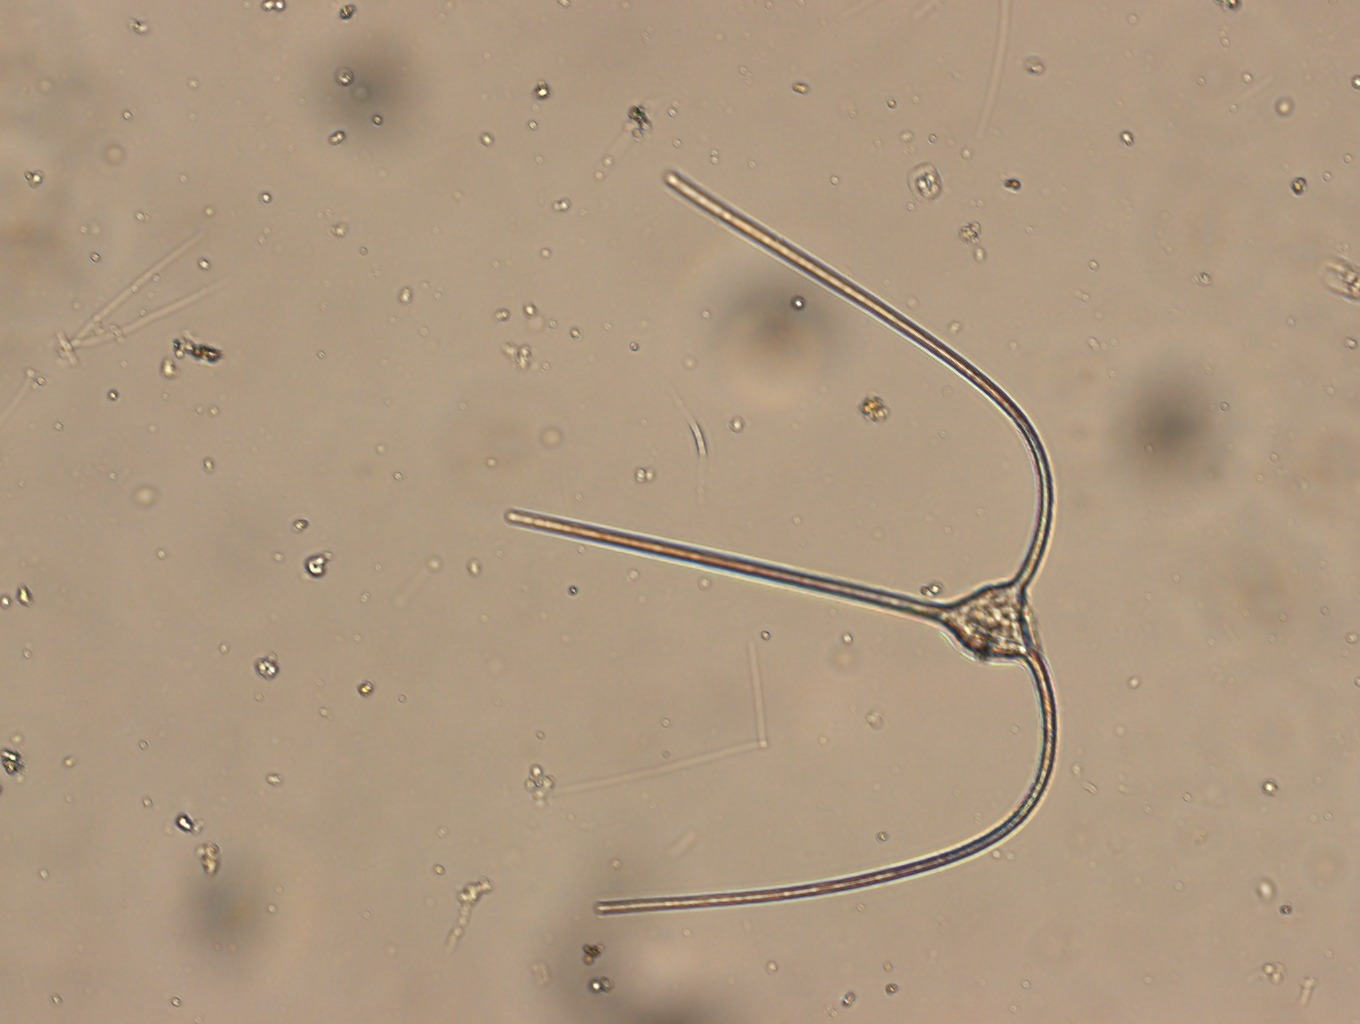ceratium trichoceros: (505, 165, 1058, 918)
